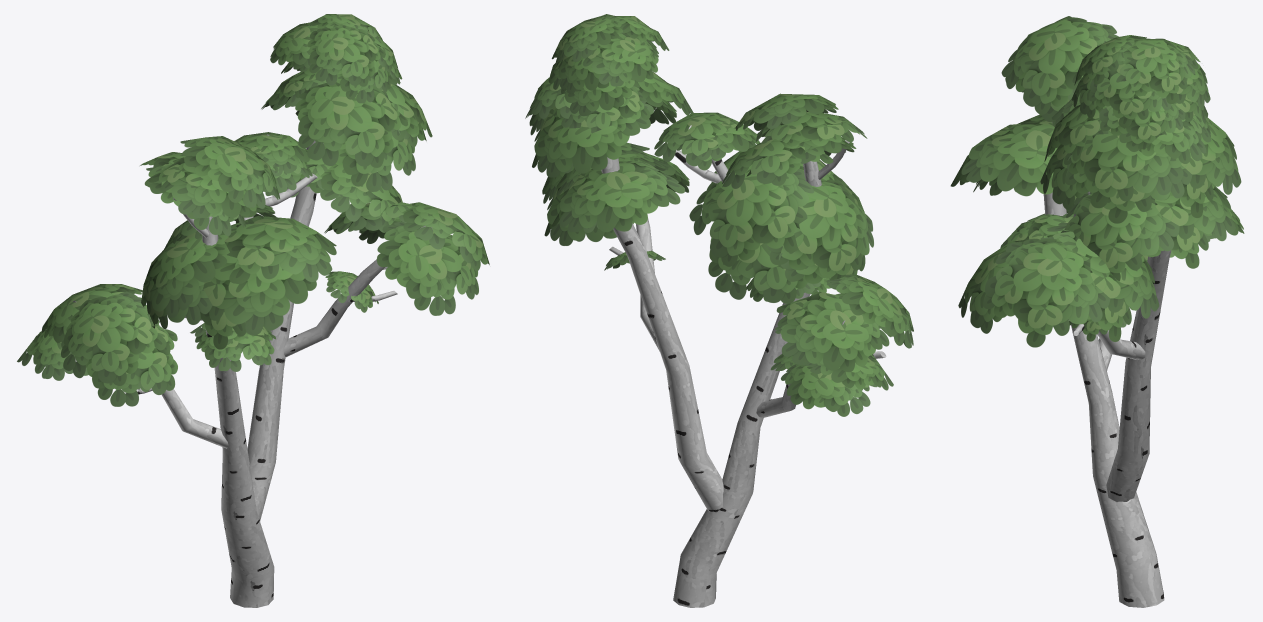
Rendered from Birch_8.glb.
3 renders of one model, left to right at view 1: azimuth 30°, elevation 25°; view 2: azimuth 150°, elevation 25°; view 3: azimuth 270°, elevation 25°, orthographic. The views are drawn at different scales.
Parts seen in each view (by area): view 1: Birch_8; view 2: Birch_8; view 3: Birch_8.
Part boxes in pixels (<box>): Birch_8: <box>17,14,489,607</box>; Birch_8: <box>525,14,913,607</box>; Birch_8: <box>950,16,1244,607</box>.
Size of the model in its own units: 7.33 by 9.9 by 4.51.
2 materials, 2 textured.
